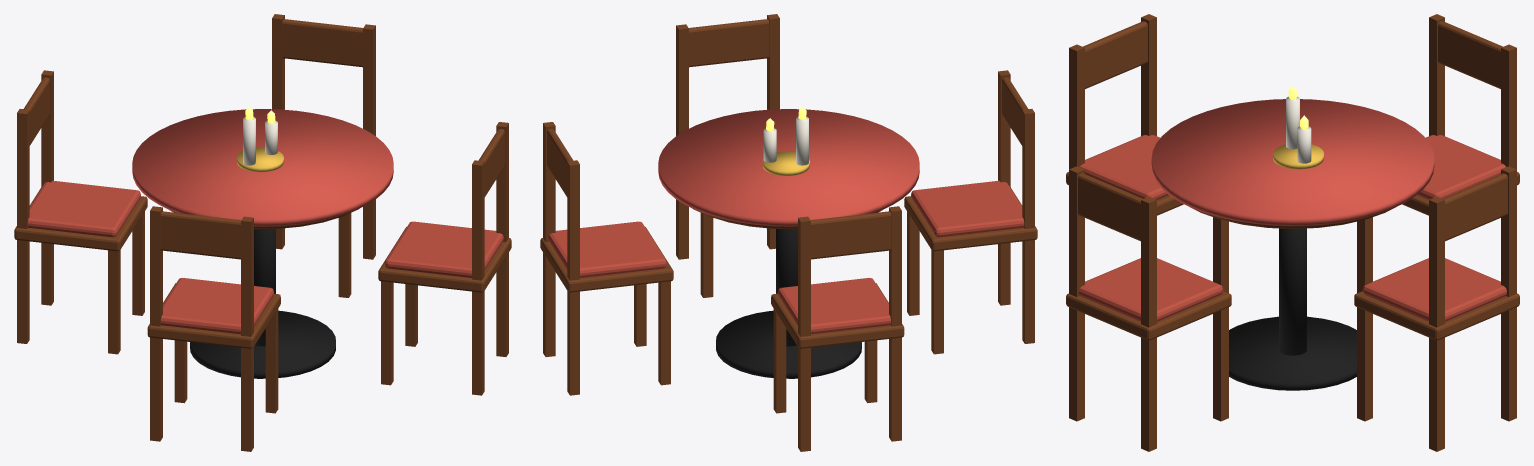
The model's file is tavolo-candele.glb.
3 views of the same model, side by side, from view 1: azimuth 30°, elevation 25°; view 2: azimuth 150°, elevation 25°; view 3: azimuth 270°, elevation 25° (orthographic). The views are drawn at different scales.
Parts seen in each view (by area): view 1: Cylinder, Cube.017, Cylinder.003, Cube.035, Cube.026, Cube.007, Cube.025, Cube.027, Cube.009, Cube.018, Cube.033, Cube.023 (+25 smaller); view 2: Cylinder, Cube.026, Cylinder.003, Cube.008, Cube.017, Cube.034, Cube.016, Cube, Cube.018, Cube.009, Cube.005, Cube.015 (+25 smaller); view 3: Cylinder, Cylinder.003, Cube.008, Cube.035, Cylinder.002, Cube.017, Cube.026, Cube.016, Cube.007, Cube.034, Cube.025, Cube (+21 smaller).
Part boxes in pixels (x1,y1,x2,y2): Cylinder: (132, 109, 393, 226); Cube.017: (27, 180, 140, 237); Cylinder.003: (190, 310, 335, 378); Cube.035: (385, 221, 503, 277); Cube.026: (161, 278, 273, 333); Cube.007: (282, 19, 374, 67); Cube.025: (160, 211, 252, 259); Cube.027: (378, 227, 511, 292); Cube.009: (14, 187, 147, 251); Cube.018: (147, 283, 280, 348); Cube.033: (472, 160, 484, 280); Cube.023: (241, 216, 253, 336); Cylinder: (658, 109, 919, 226); Cube.026: (911, 180, 1024, 237); Cylinder.003: (716, 310, 861, 378); Cube.008: (548, 221, 666, 277); Cube.017: (778, 278, 890, 333); Cube.034: (689, 19, 769, 67); Cube.016: (811, 211, 891, 259); Cube: (540, 227, 673, 292); Cube.018: (904, 187, 1037, 251); Cube.009: (771, 283, 904, 348); Cube.005: (567, 160, 579, 280); Cube.015: (798, 216, 810, 336); Cylinder: (1151, 99, 1434, 225); Cylinder.003: (1229, 316, 1356, 390); Cube.008: (1362, 258, 1506, 321); Cube.035: (1079, 258, 1223, 321); Cylinder.002: (1279, 228, 1306, 355); Cube.017: (1417, 135, 1505, 199); Cube.026: (1080, 135, 1168, 199); Cube.016: (1438, 21, 1513, 90); Cube.007: (1432, 173, 1507, 242); Cube.034: (1078, 173, 1153, 241); Cube.025: (1072, 21, 1147, 88); Cube: (1354, 291, 1519, 340).
Size of the model in its own units: 1.6 by 1.03 by 1.6.
